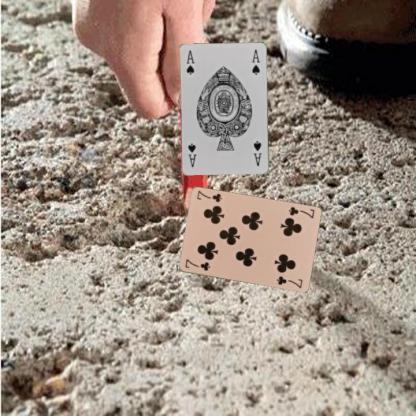7c: (286, 204, 316, 220), (182, 256, 210, 272)
As: (251, 139, 263, 168), (184, 48, 196, 76)
